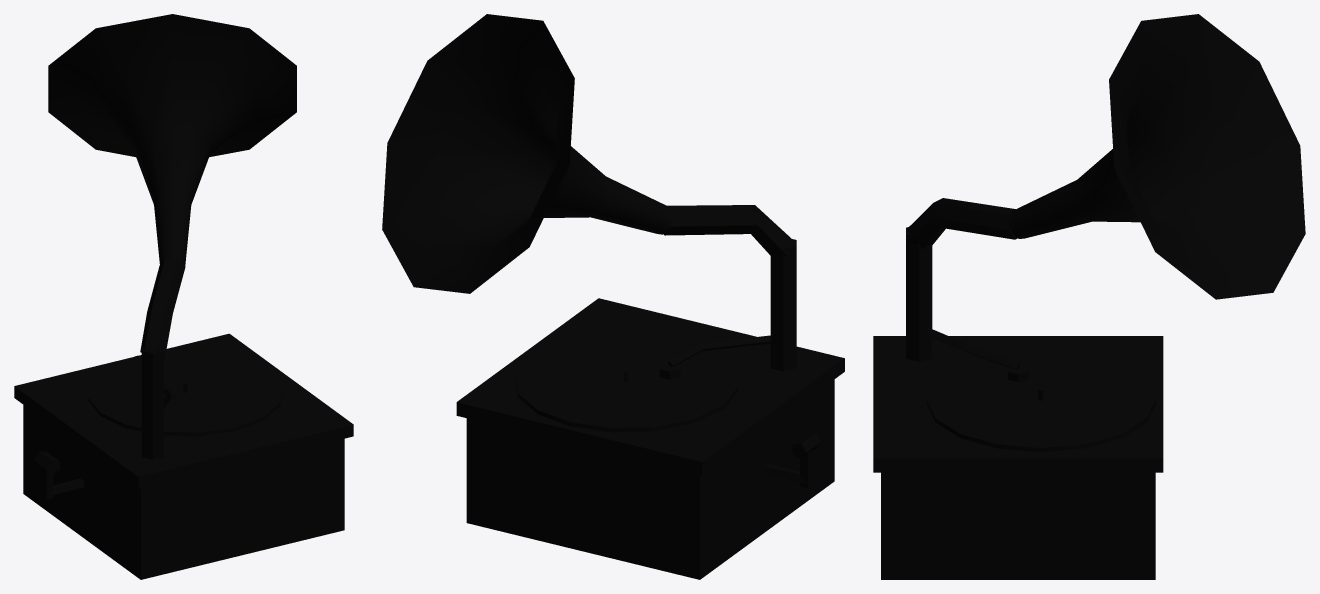
The model's file is SM_phonograph.fbx.
3 renders of one model, left to right at view 1: azimuth 30°, elevation 25°; view 2: azimuth 150°, elevation 25°; view 3: azimuth 270°, elevation 25°, orthographic. The views are drawn at different scales.
Parts seen in each view (by area): view 1: phonograph, phonograph_record; view 2: phonograph, phonograph_record; view 3: phonograph, phonograph_record.
Part boxes in pixels (x1=…): phonograph: x1=14, y1=14, x2=353, y2=579; phonograph_record: x1=88, y1=350, x2=282, y2=436; phonograph: x1=382, y1=14, x2=844, y2=579; phonograph_record: x1=515, y1=334, x2=737, y2=432; phonograph: x1=873, y1=14, x2=1305, y2=579; phonograph_record: x1=926, y1=351, x2=1155, y2=452.
Size of the model in its own units: 0.5551 by 0.7582 by 0.5663.
